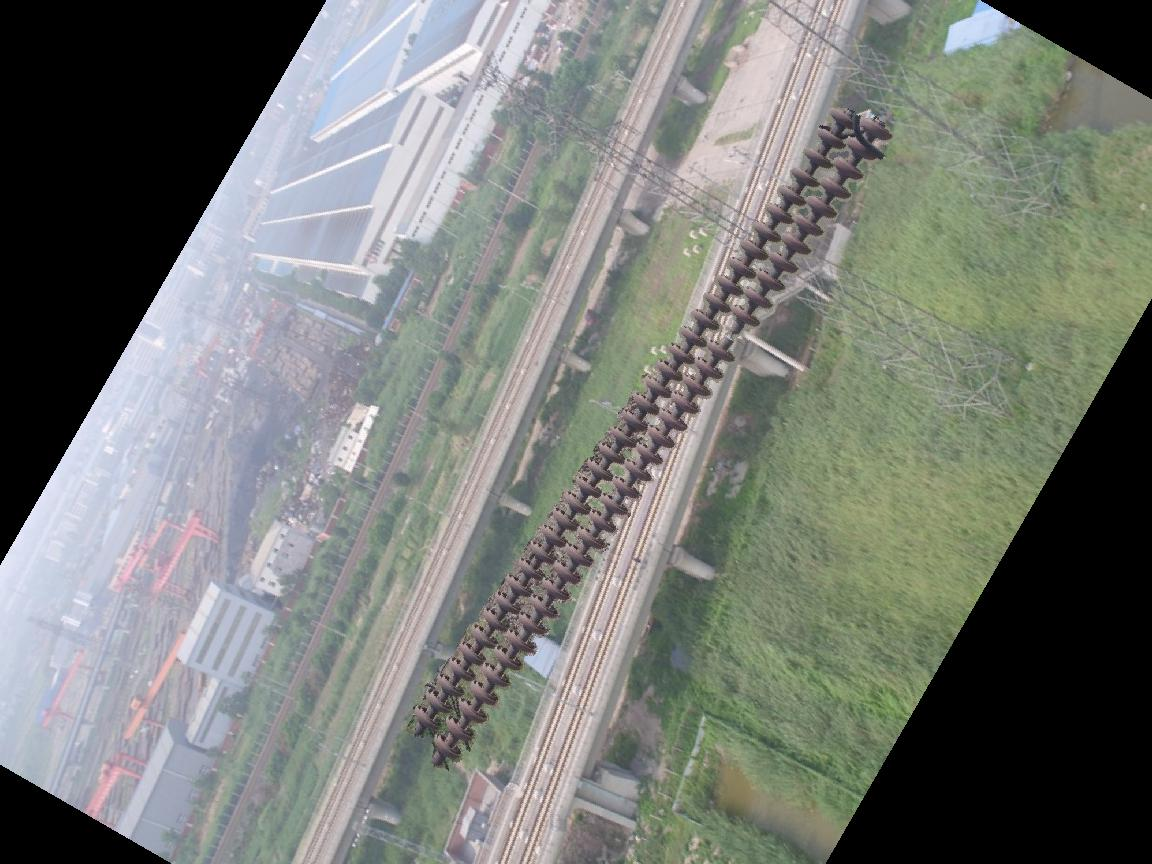insulator: (403, 100, 893, 775)
insulator_stringdrop: (702, 301, 763, 364)
